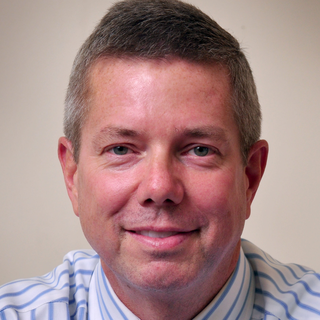eye: (178, 140, 221, 163), (95, 141, 144, 159)
